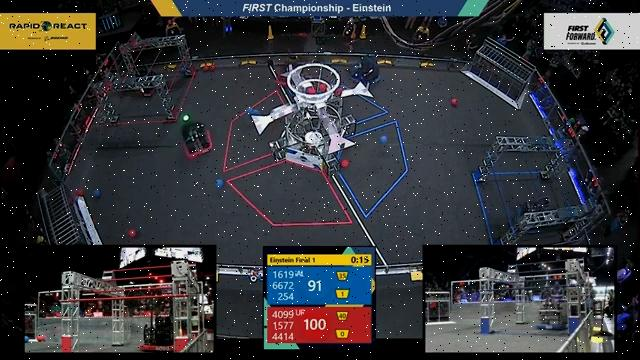Robot: (177, 113, 219, 163), (346, 47, 383, 90), (514, 195, 553, 231), (133, 61, 160, 99)
